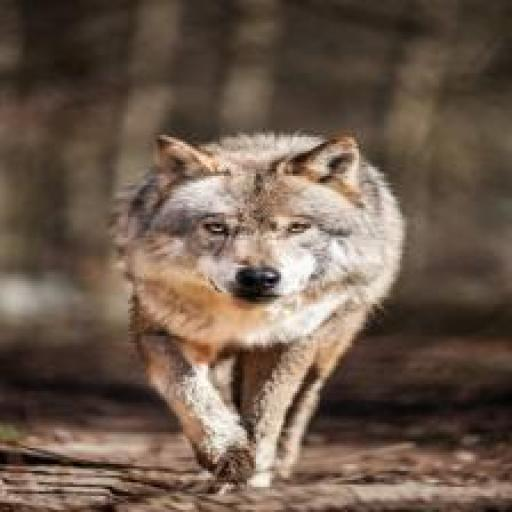wolf: (62, 96, 431, 511)
